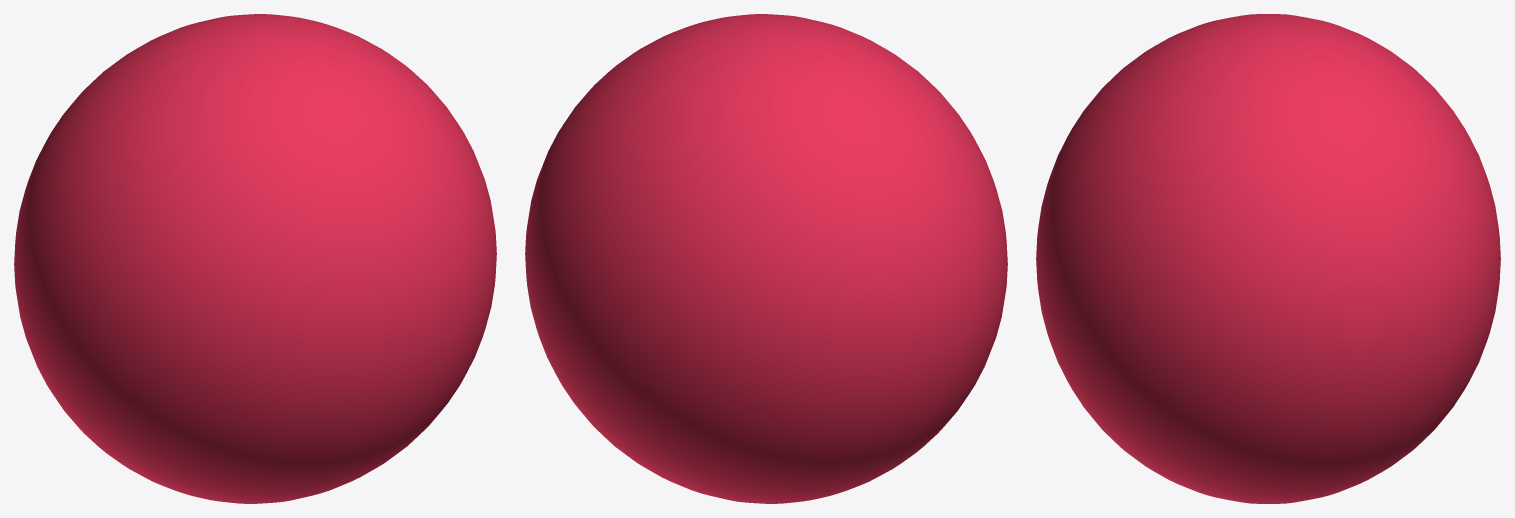
The model's file is jjj.glb.
3 views of the same model, side by side, from view 1: azimuth 30°, elevation 25°; view 2: azimuth 150°, elevation 25°; view 3: azimuth 270°, elevation 25° (orthographic).
Parts seen in each view (by area): view 1: Sphere.001; view 2: Sphere.001; view 3: Sphere.001.
Boxes of the visible parts, x1,y1,x2,y2 form: Sphere.001: [14, 14, 496, 503]; Sphere.001: [525, 14, 1007, 503]; Sphere.001: [1036, 14, 1500, 503].
Bounding box in the file's own units: 0.7706 × 0.7857 × 0.7371.
